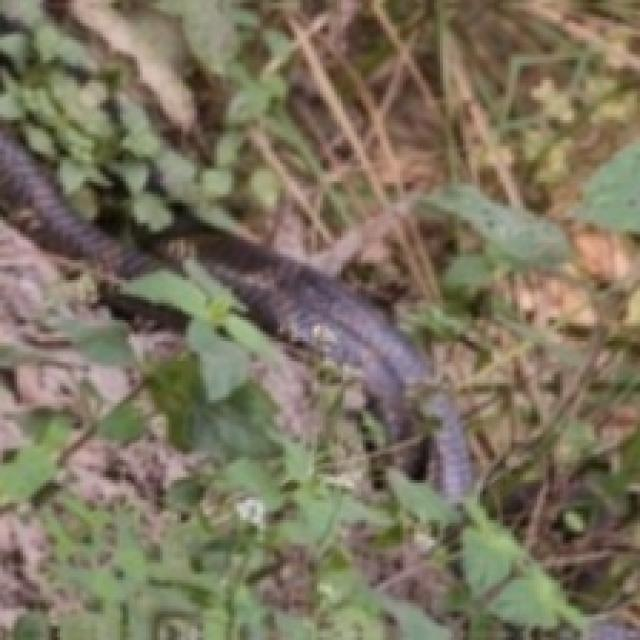king cobra: (154, 223, 471, 500), (174, 209, 469, 497), (20, 57, 203, 209), (0, 129, 151, 274), (0, 134, 149, 274)
